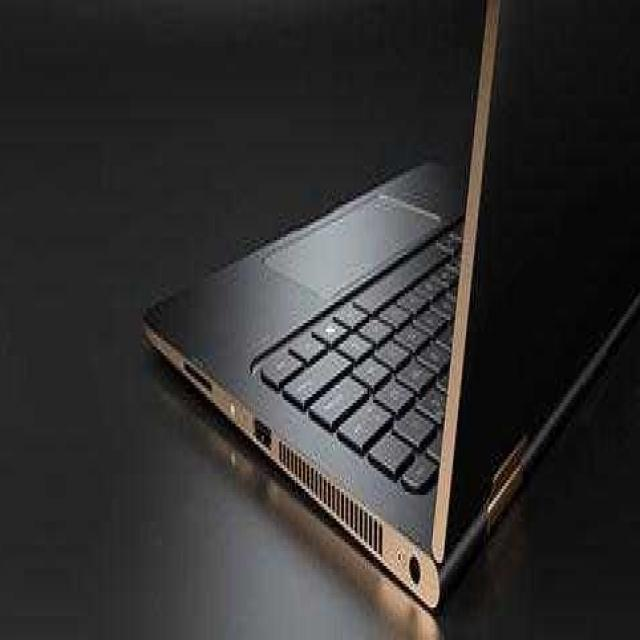laptop: (138, 16, 616, 614)
